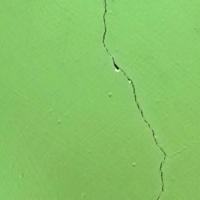crack: (91, 0, 185, 199)
